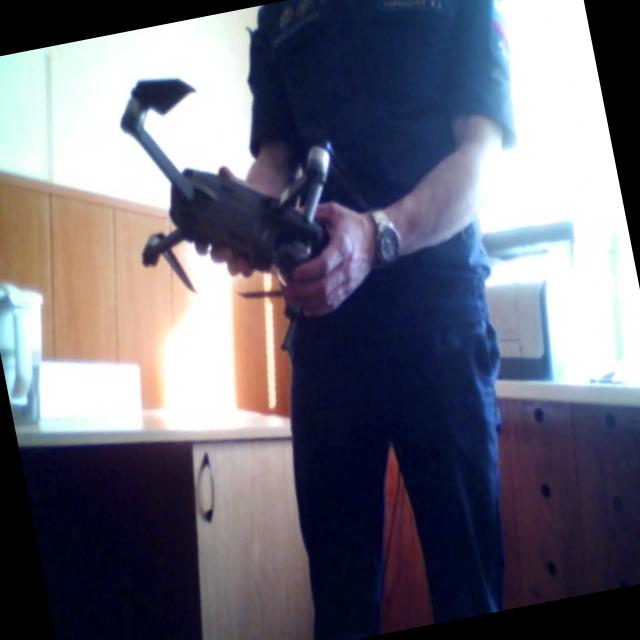drone: (87, 32, 390, 380)
